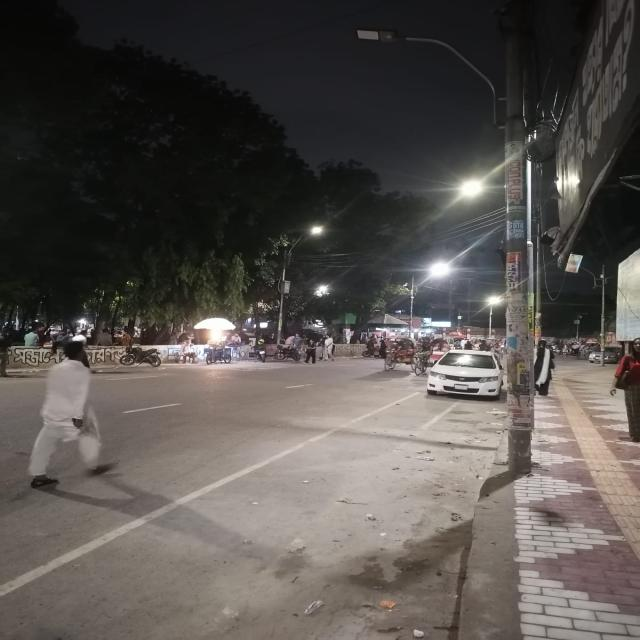person: (28, 336, 114, 489)
